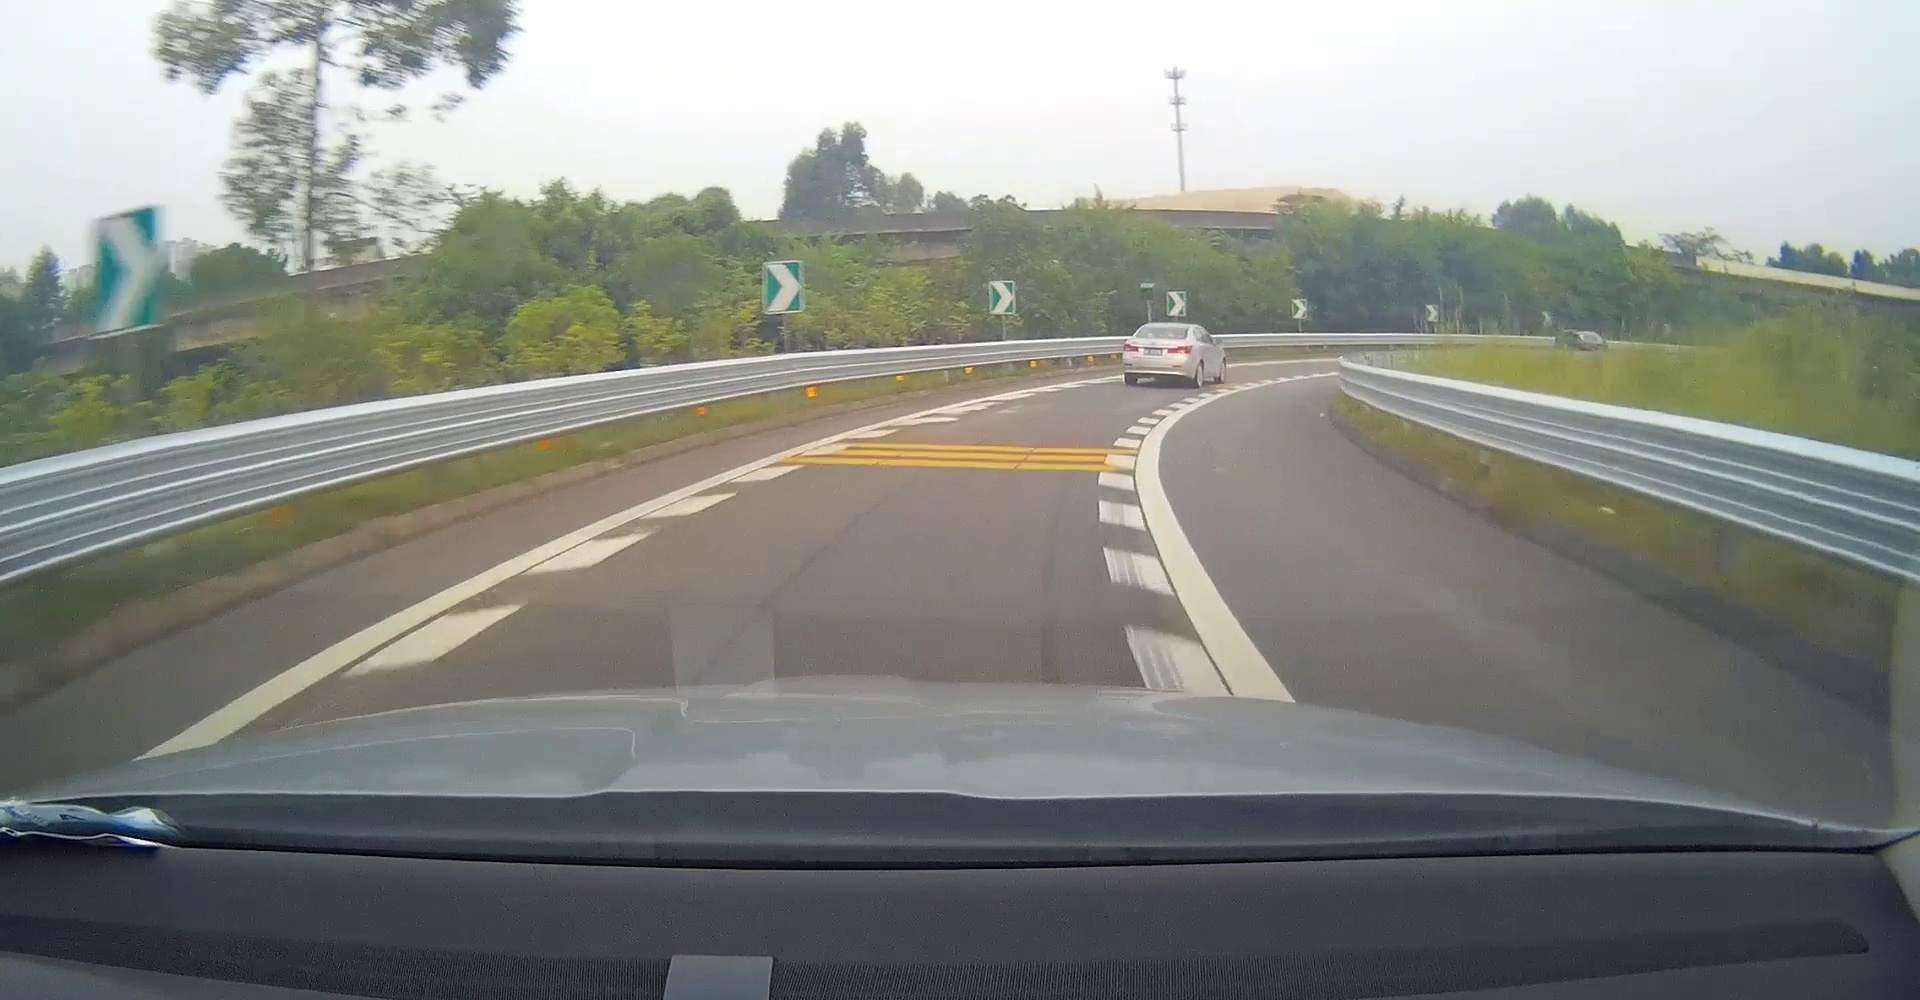L_light: (1123, 344, 1138, 352)
R_light: (1167, 346, 1192, 353)
T_light: (1157, 326, 1167, 327)
day-no: (1123, 324, 1192, 390)
